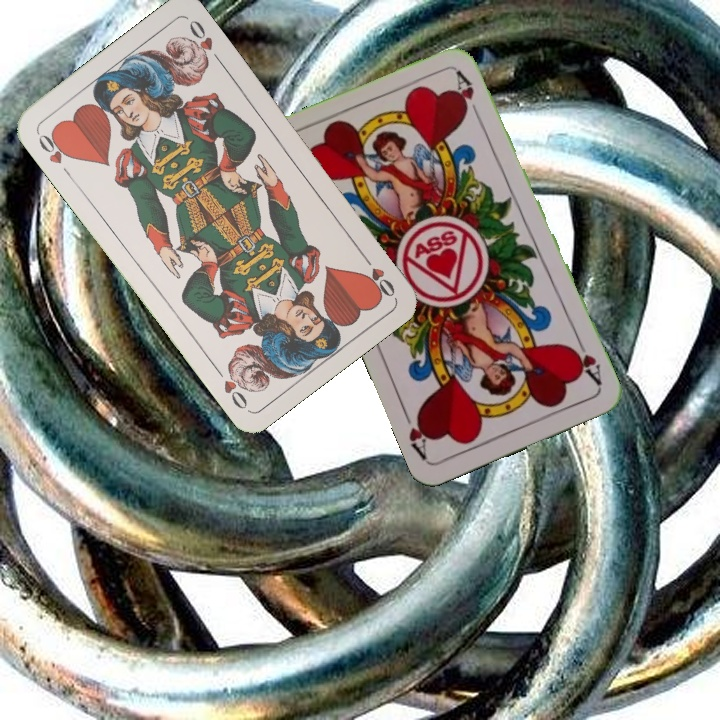HA: (566, 334, 605, 389)
HO: (34, 127, 75, 180), (357, 248, 398, 300)
